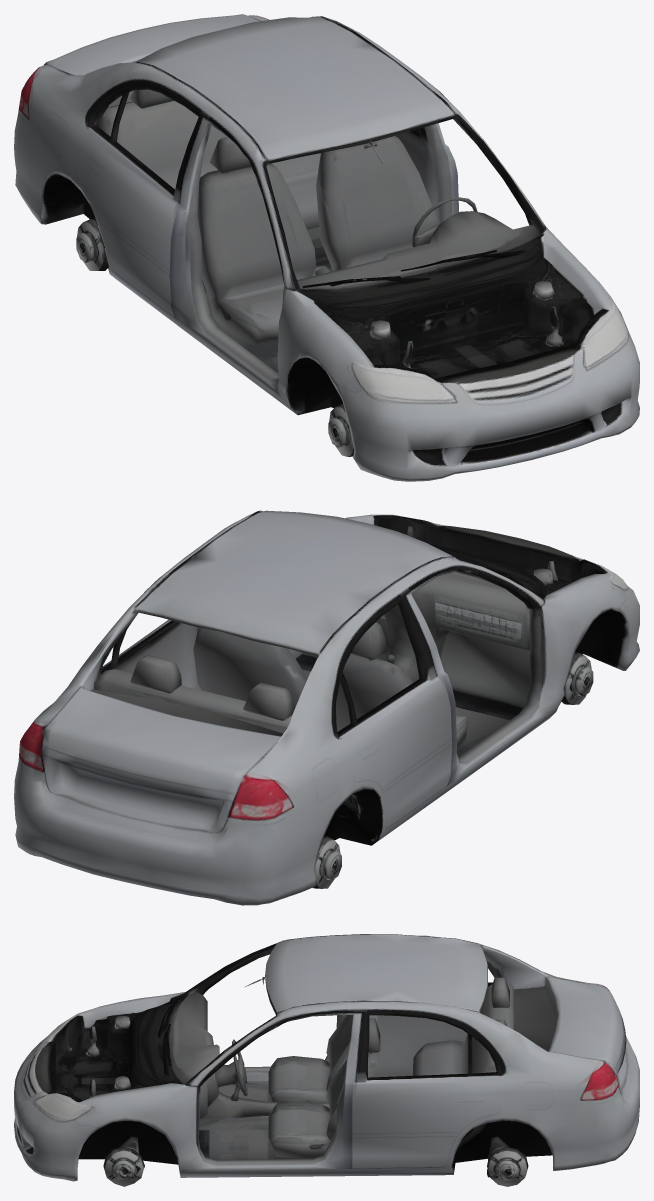
The model's file is original_glb.glb.
3 renders of one model, top to bottom at view 1: azimuth 30°, elevation 25°; view 2: azimuth 150°, elevation 25°; view 3: azimuth 270°, elevation 25°, orthographic. The views are drawn at different scales.
Visible parts, largest first — view 1: body shell; view 2: body shell; view 3: body shell.
Part boxes in pixels (<box>): body shell: <box>14,14,639,481</box>; body shell: <box>14,510,639,905</box>; body shell: <box>14,934,639,1186</box>.
Size of the model in its own units: 0.4004 by 0.3145 by 0.998.
1 material, 1 textured.
